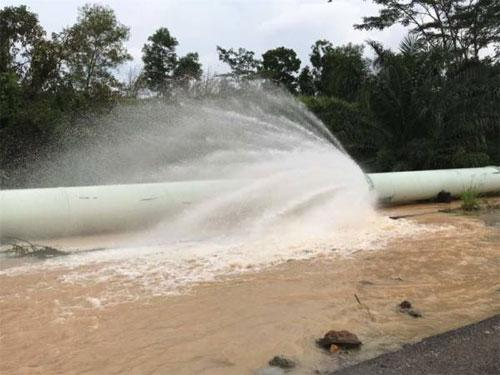pipe burst: (35, 77, 381, 243)
water accumulation: (0, 193, 500, 375)
